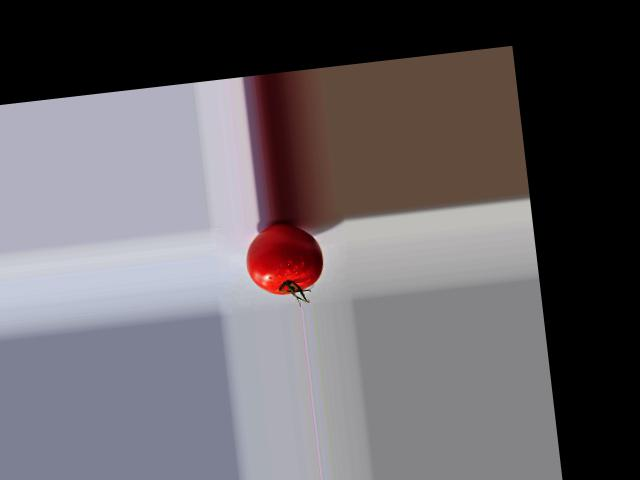tomato: (242, 218, 325, 297)
